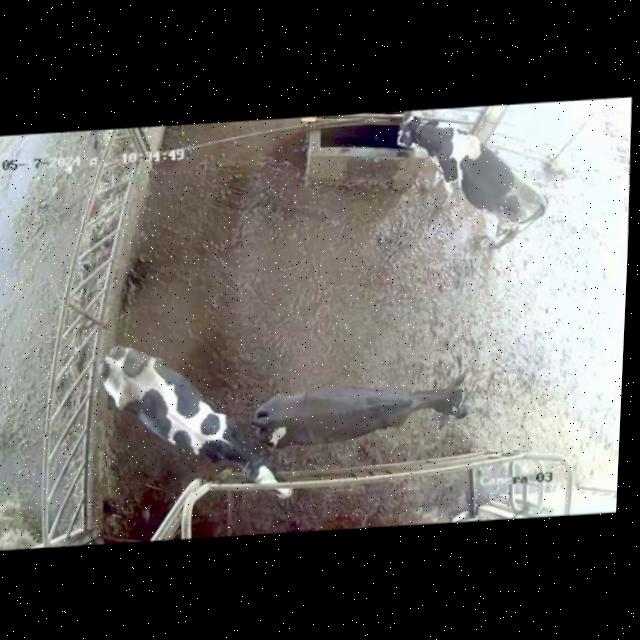drink: (363, 107, 473, 189)
stand: (91, 327, 306, 523), (252, 345, 487, 461)
